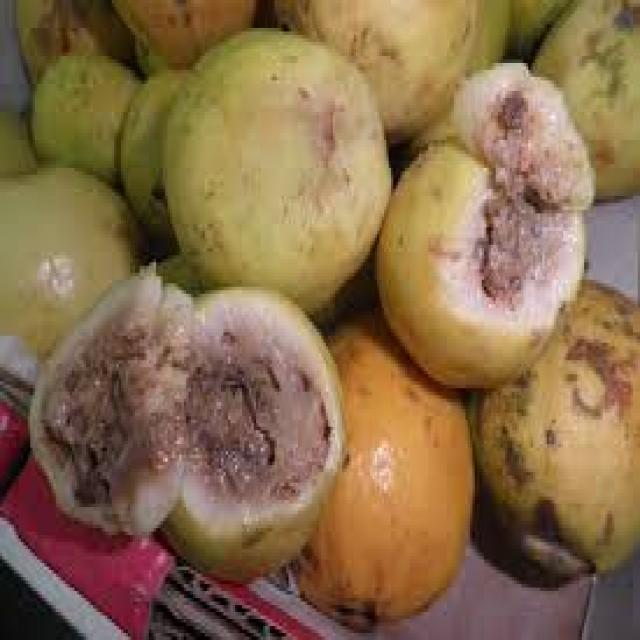food_waste: (0, 0, 640, 619)
